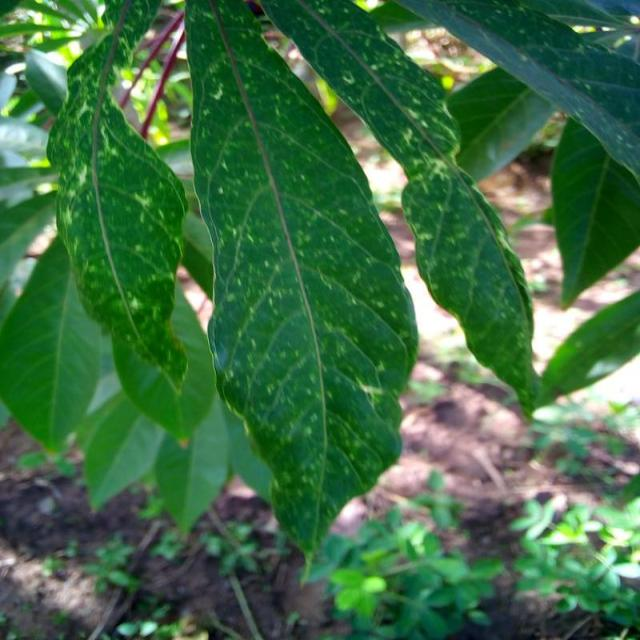cassava leaf: (182, 0, 420, 578), (257, 0, 540, 420), (45, 2, 189, 382)
